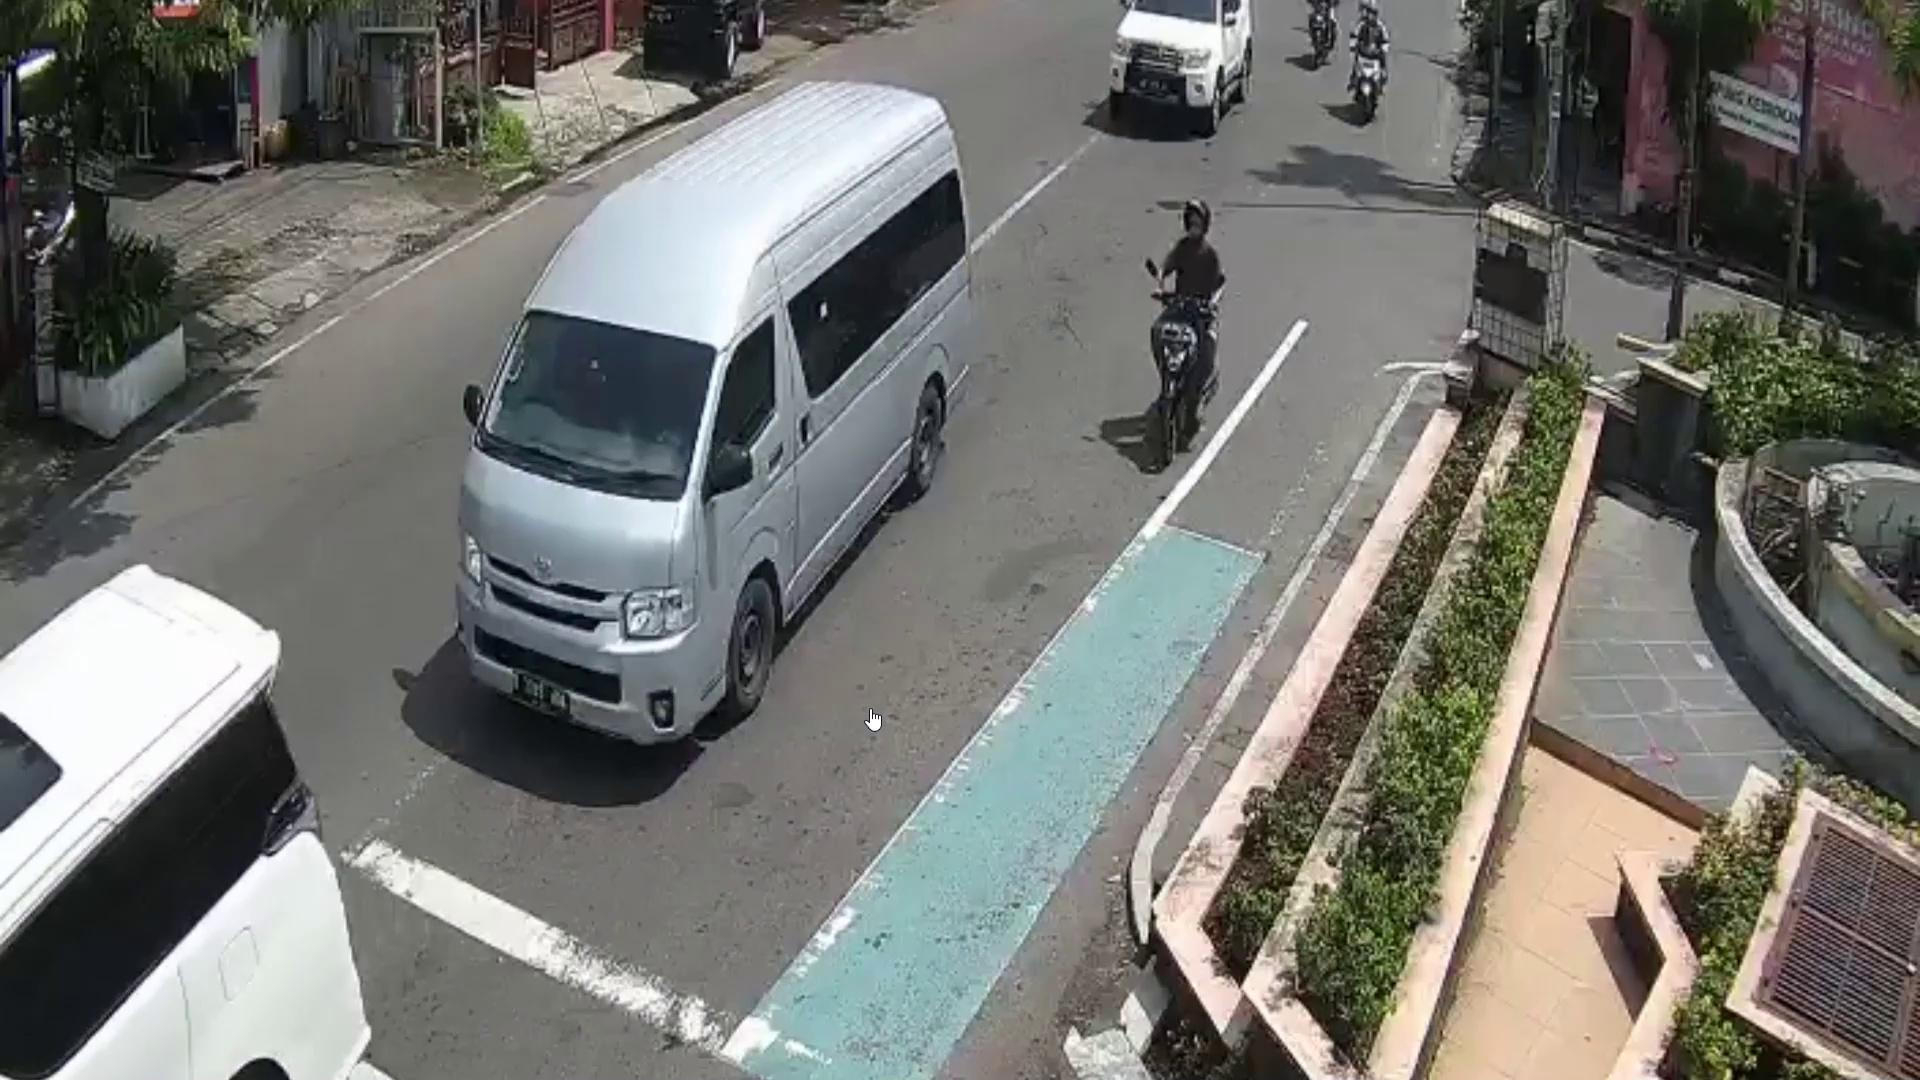bus: (459, 82, 969, 746)
car: (0, 558, 382, 1080), (1114, 0, 1254, 132)
motorbike: (1153, 289, 1205, 473), (1350, 37, 1387, 121)
